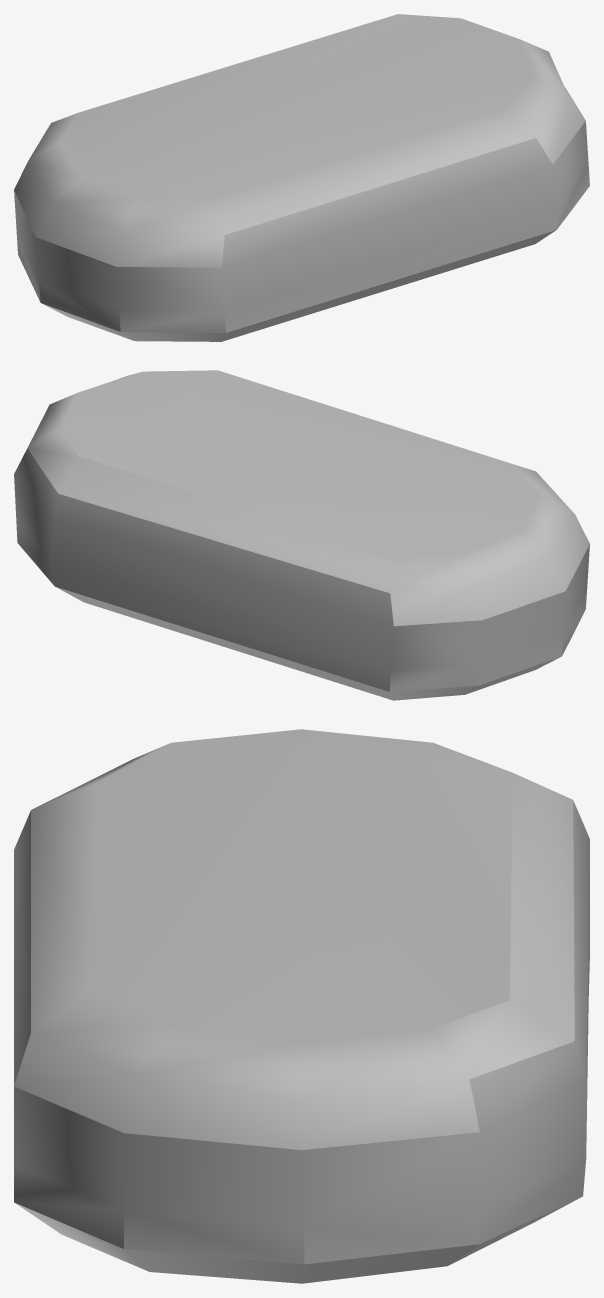
File: ghi4_button.glb
3 renders of one model, top to bottom at view 1: azimuth 30°, elevation 25°; view 2: azimuth 150°, elevation 25°; view 3: azimuth 270°, elevation 25°, orthographic. The views are drawn at different scales.
Visible parts, largest first — view 1: ghi4_button; view 2: ghi4_button; view 3: ghi4_button.
Boxes of the visible parts, left/top/right/bottom form: ghi4_button: left=14, top=14, right=589, bottom=341; ghi4_button: left=14, top=370, right=589, bottom=700; ghi4_button: left=14, top=729, right=589, bottom=1283.
Size of the model in its own units: 0.00277 by 0.000842 by 0.00156.
1 material, 1 textured.
